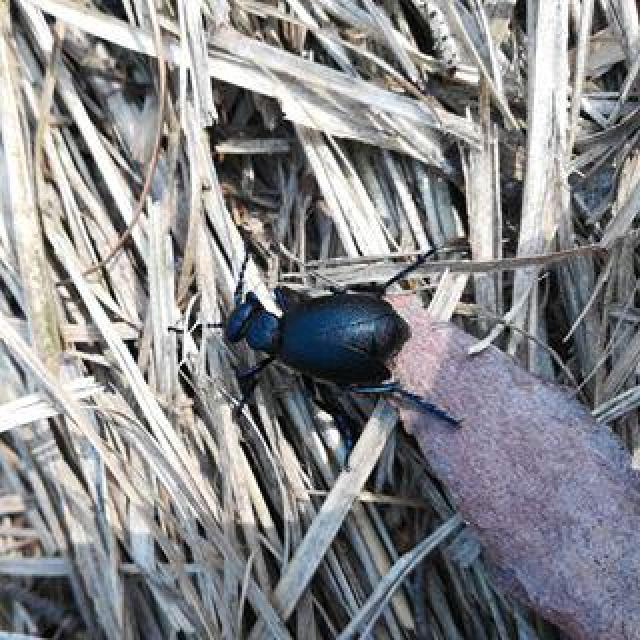BlisterBeetle-Adult-: (184, 230, 496, 451)
